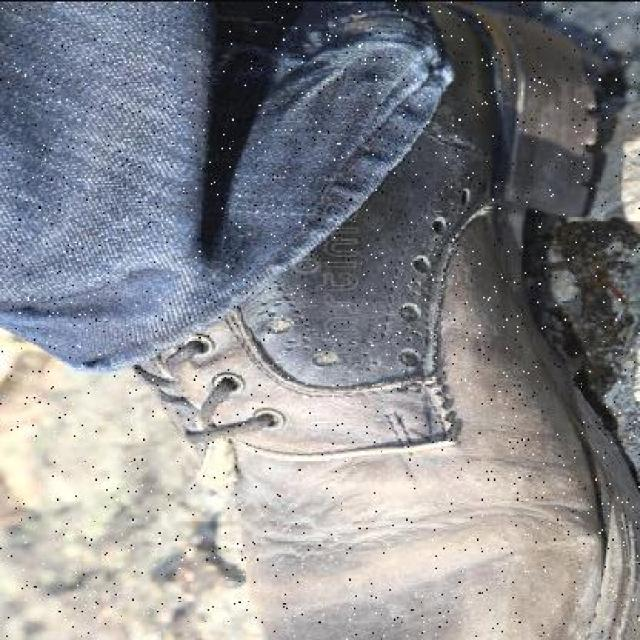shoes: (208, 21, 629, 634)
